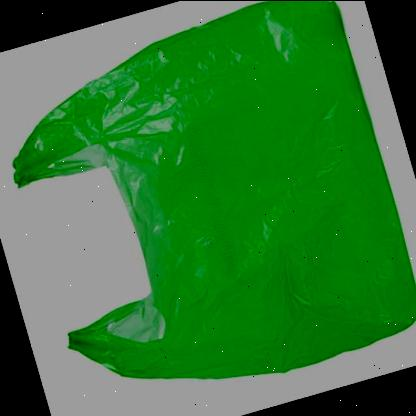Others: (12, 0, 416, 378)
